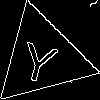Y: (17, 33, 62, 85)
